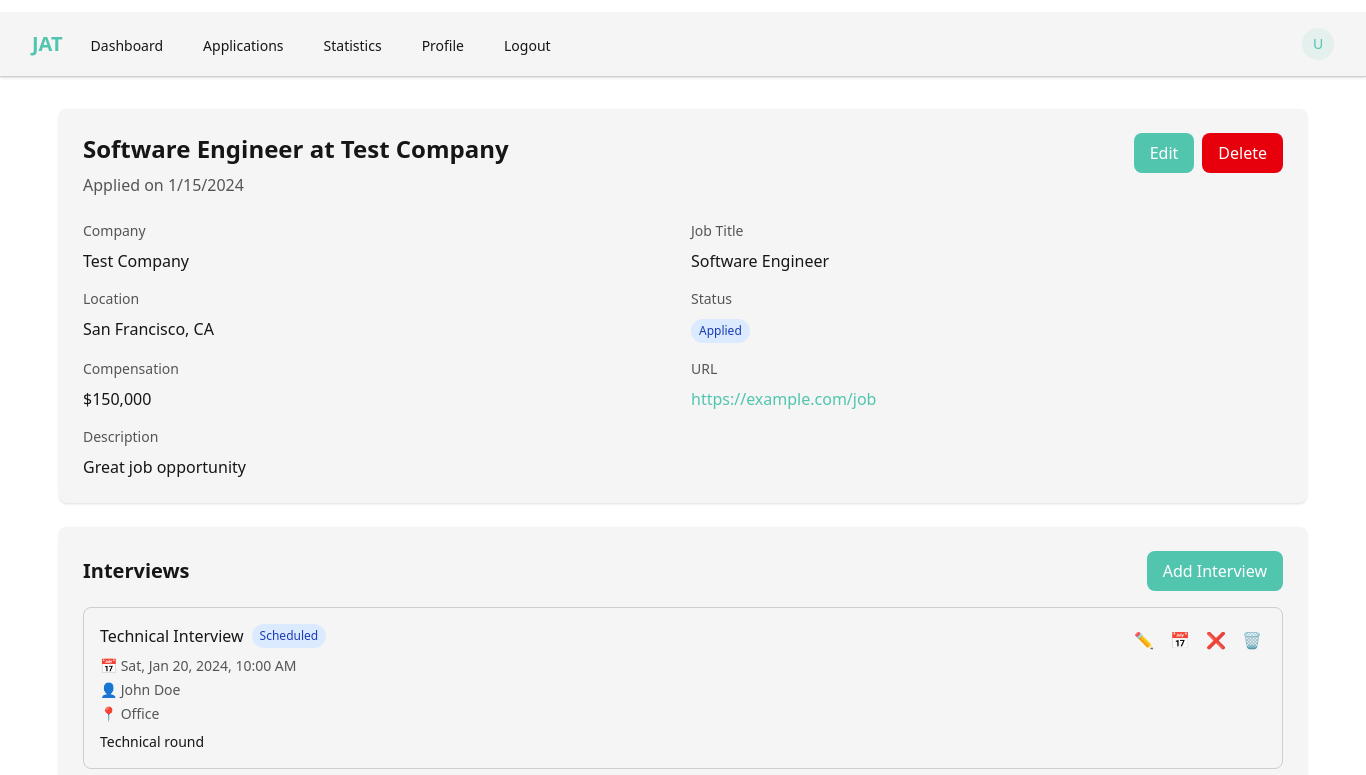
Scenario: ApplicationDetail Component › Edit Application › should cancel edit mode when cancel button is clicked
This screenshot has width=1366, height=775.
Expected: the text "Software Engineer" is shown, [691,250,829,272]
Click the button "Edit" at (1164, 153), box [1134,133,1194,173]
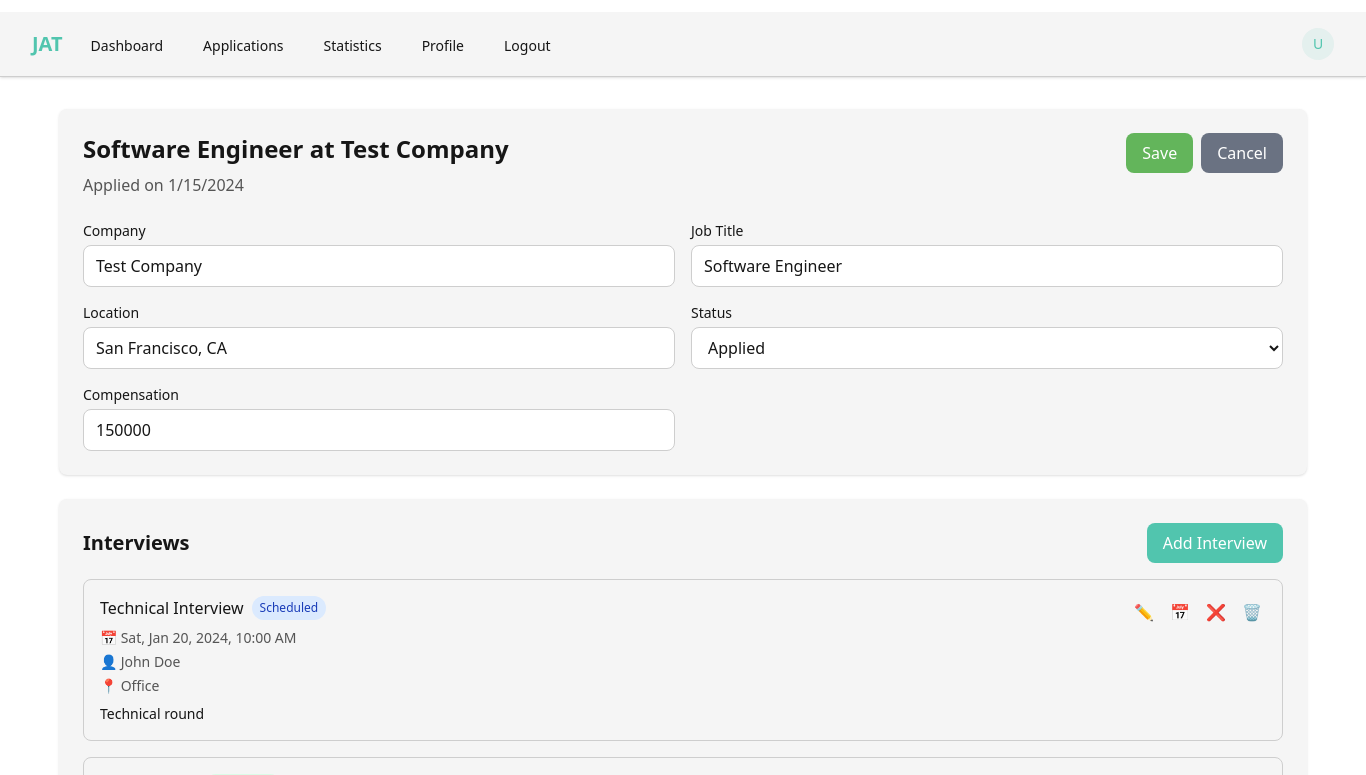
Replace the text in the field showing "Software Engineer" below "Job Title" with "Changed Title" at (987, 266), box [691,245,1283,287]
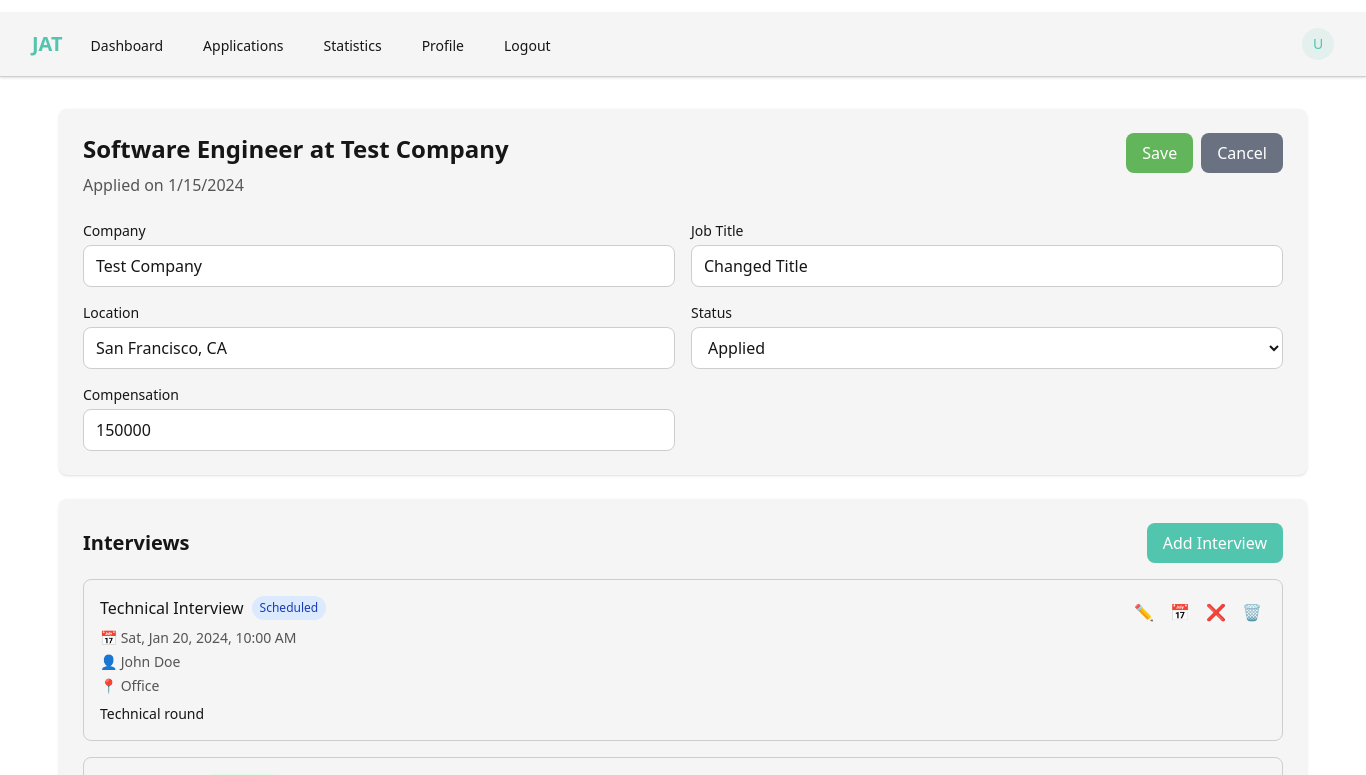
Click the button "Cancel" at (1242, 153), box [1201,133,1283,173]
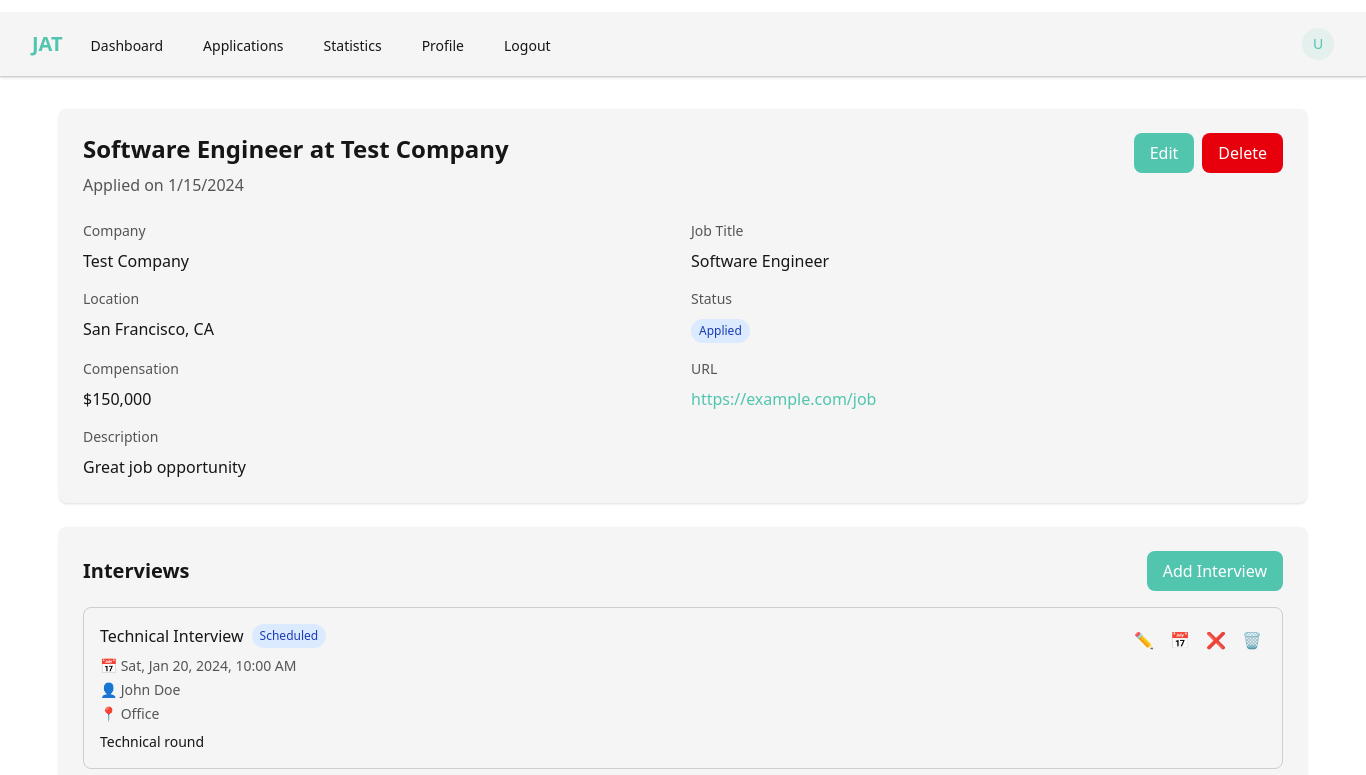
Expected: the field showing "Changed Title" is not shown
Result: the text "Software Engineer" is shown at [691,250,829,272]
